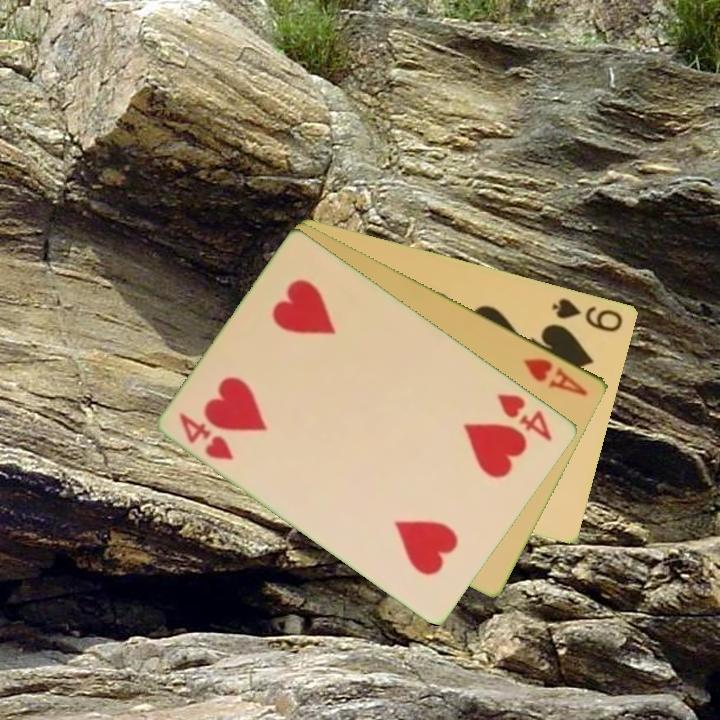4h: (494, 389, 556, 444), (175, 408, 237, 463)
9s: (549, 294, 626, 335)
Ah: (520, 354, 592, 399)
